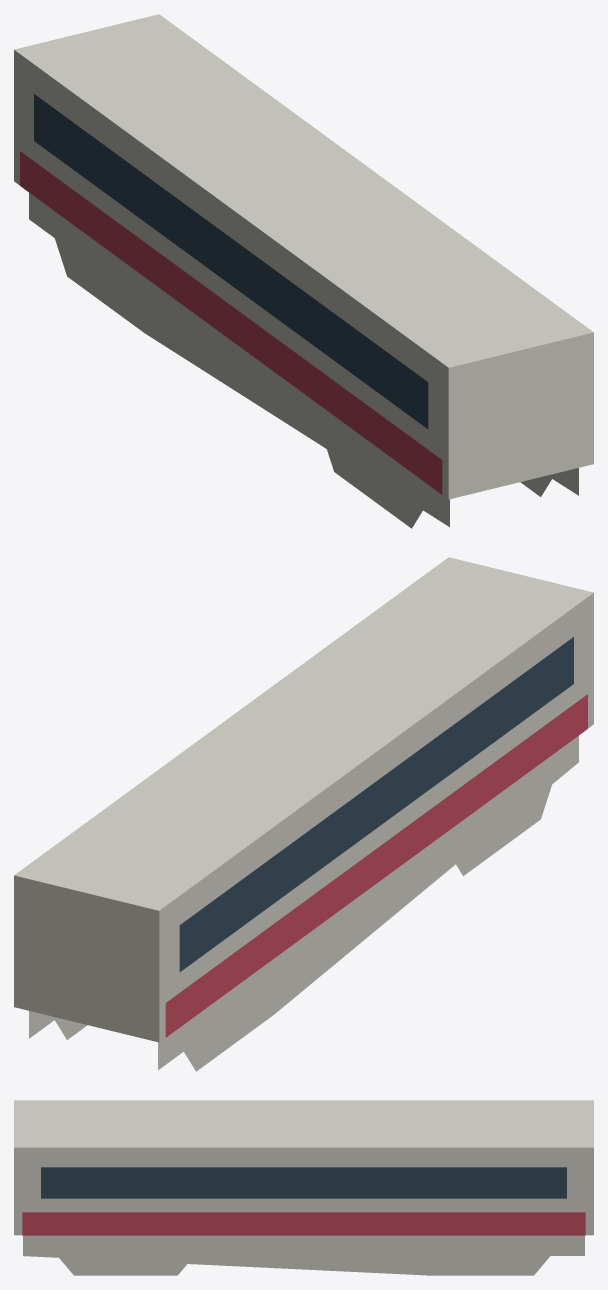
Rendered from 321_far.fbx.
The picture shows the model from 3 angles, top to bottom: view 1: azimuth 30°, elevation 25°; view 2: azimuth 150°, elevation 25°; view 3: azimuth 270°, elevation 25°; orthographic projection. The views are drawn at different scales.
Visible parts, largest first — view 1: 321_far; view 2: 321_far; view 3: 321_far.
Part boxes in pixels (x1=…): 321_far: x1=14, y1=14, x2=593, y2=528; 321_far: x1=14, y1=557, x2=593, y2=1071; 321_far: x1=14, y1=1100, x2=593, y2=1275.
Size of the model in its own units: 2.71 by 3.48 by 14.
